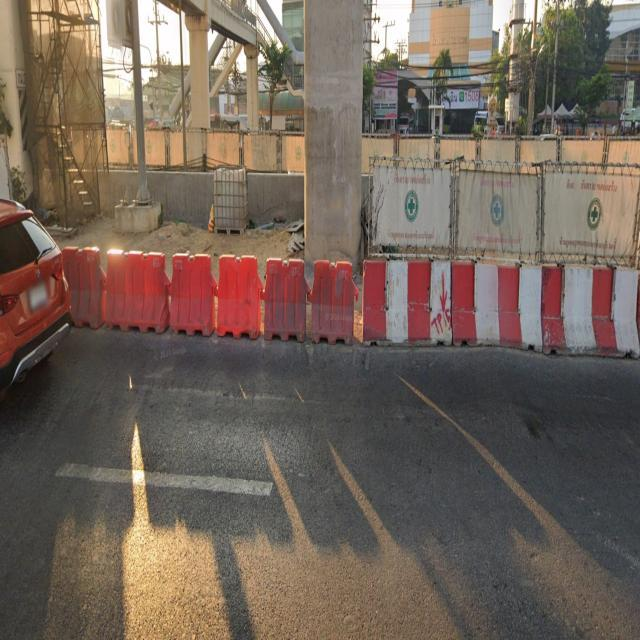fallen_object: (356, 239, 549, 361), (232, 239, 357, 354), (517, 256, 640, 364), (152, 232, 261, 353), (50, 239, 174, 343)
